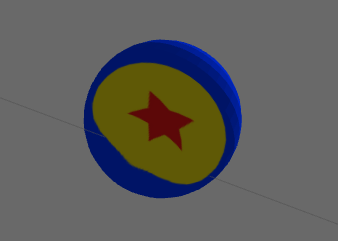toy story ball: (84, 39, 242, 198)
